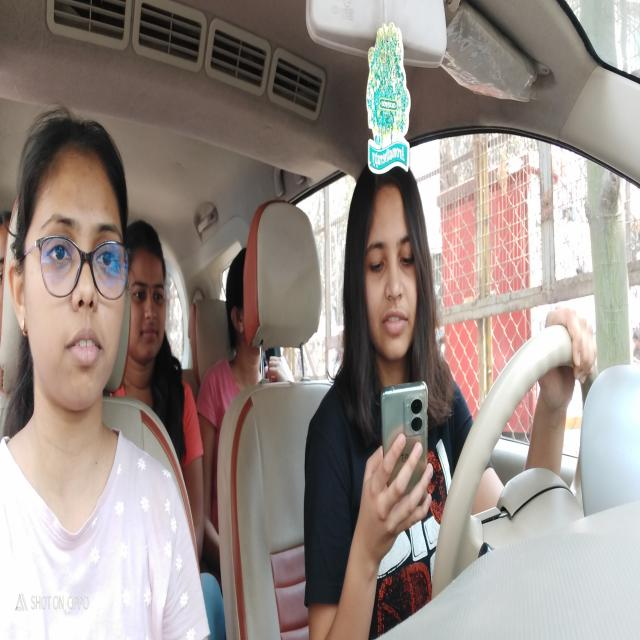mobile: (377, 384, 432, 519)
person: (13, 102, 129, 397), (349, 165, 434, 371), (130, 220, 172, 360), (227, 258, 268, 380)
